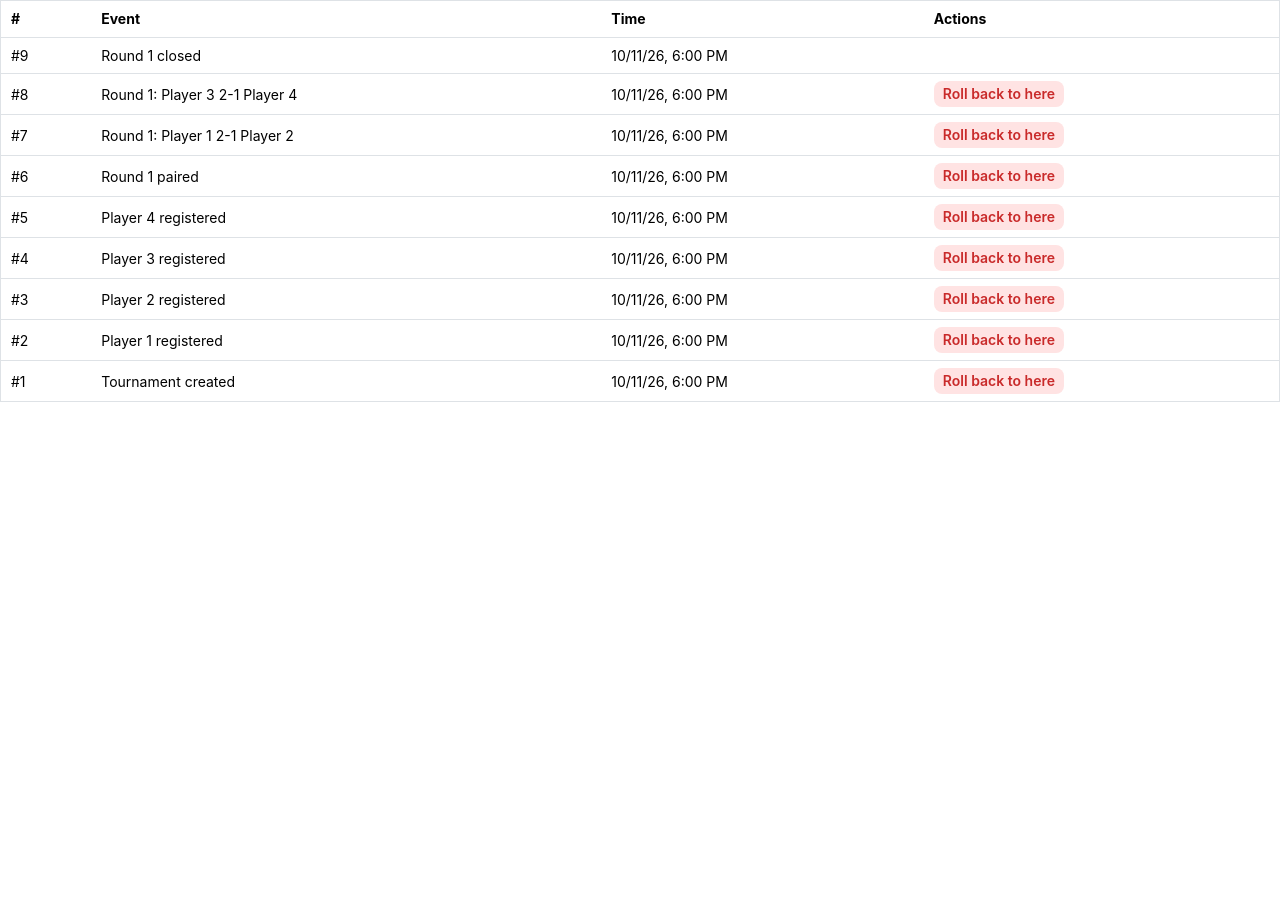
Test: HistoryPanel › opens a modal with the undone events by type and the resulting status and round
Click the button "Roll back to here" in the row of "#6": (999, 176) [934,163,1064,189]
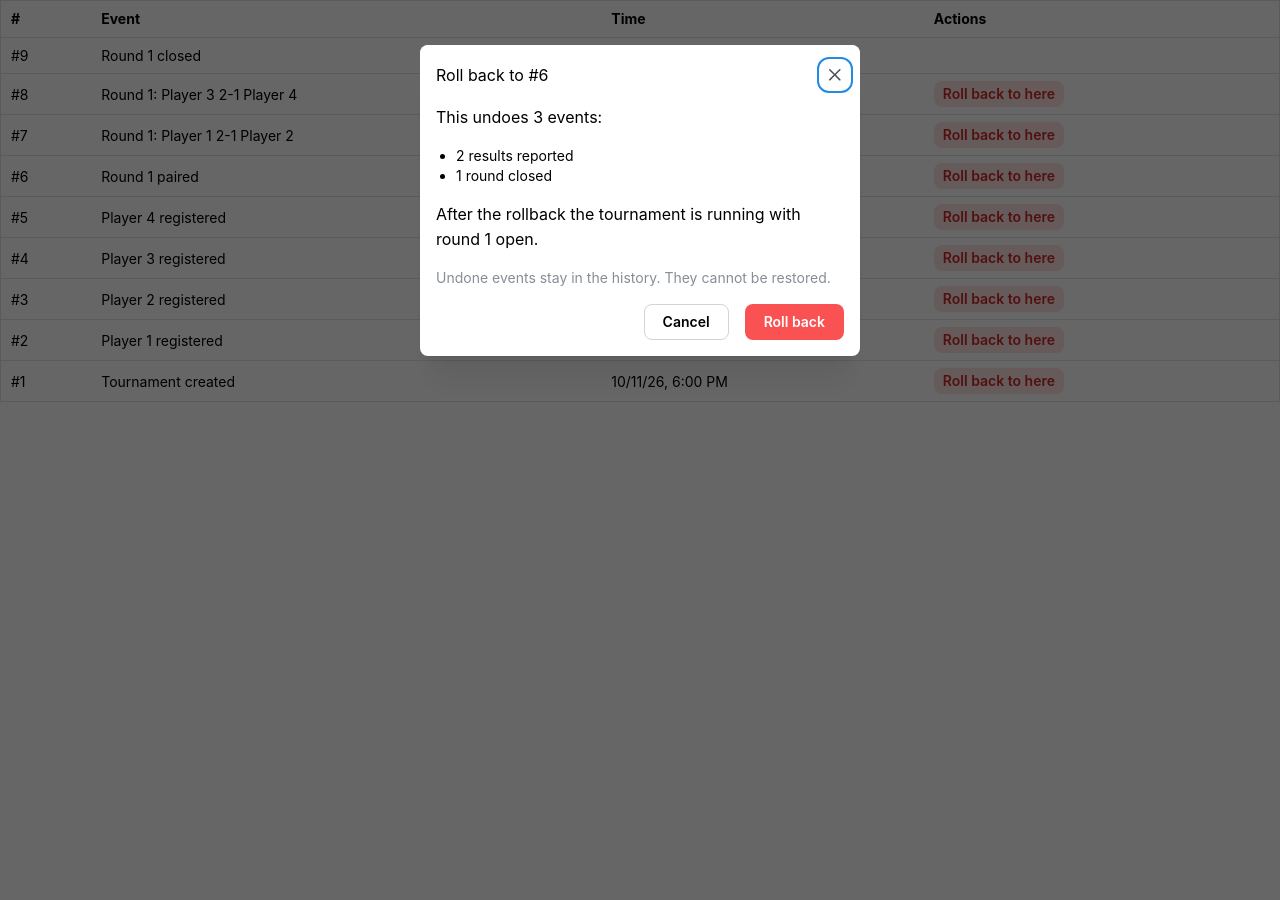
Expected: the text "This undoes 3 events:" is shown, [436,107,602,127]
Expected: the list items read "2 results reported", "1 round closed", in this order, [456,147,574,164]; [456,167,552,184]
Expected: the text "After the rollback the tournament is running with round 1 open." is shown, [436,202,844,252]
